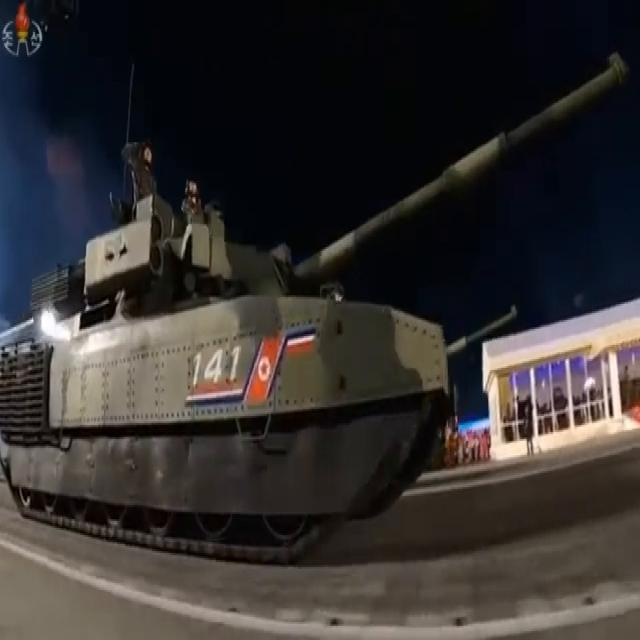north tank: (13, 54, 640, 582)
